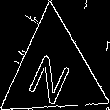N_NE: (27, 39, 80, 103)
